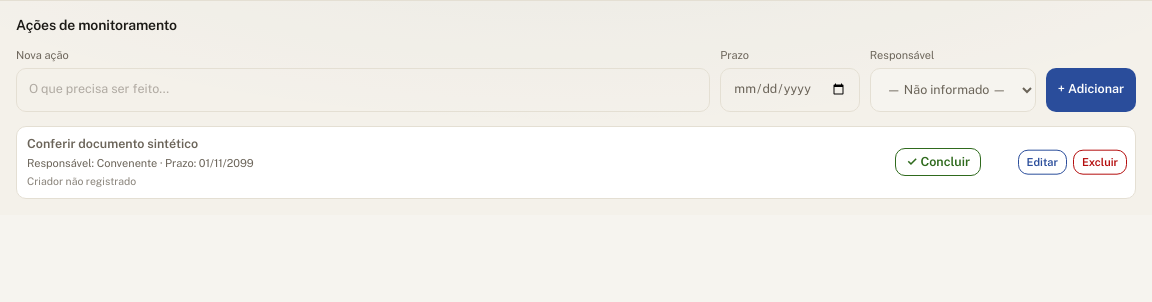
Scenario: interação das ações de monitoramento › criação e edição têm labels ligados aos seus próprios controles
This screenshot has width=1152, height=302.
Step 1. Click the button "Editar" → {"x": 1042, "y": 162}, box top-left (1018, 150), bottom-right (1067, 174)
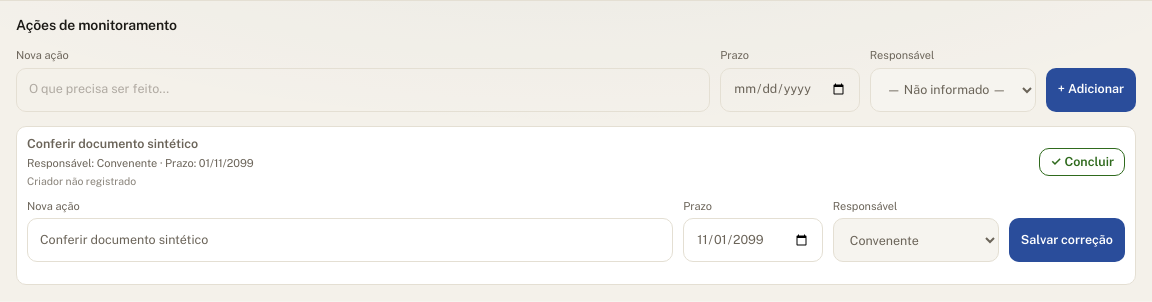
Check: the number of fields labelled "Nova ação" is 2, box top-left (16, 68), bottom-right (710, 112); top-left (27, 218), bottom-right (673, 262)
Check: the number of dropdowns labelled "Responsável" is 2, box top-left (870, 68), bottom-right (1036, 112); top-left (833, 218), bottom-right (999, 262)
